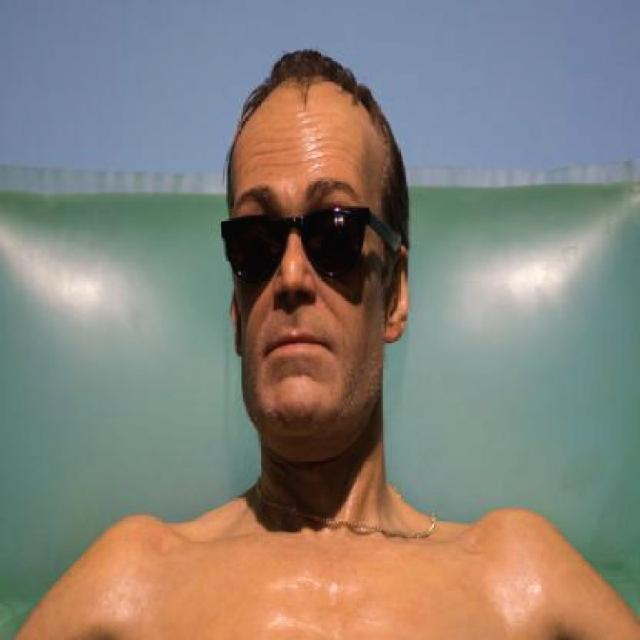face_nomask: (224, 204, 365, 370)
glasses: (226, 184, 400, 285)
head_nohelmet: (218, 43, 385, 140)
person: (34, 72, 640, 640)
